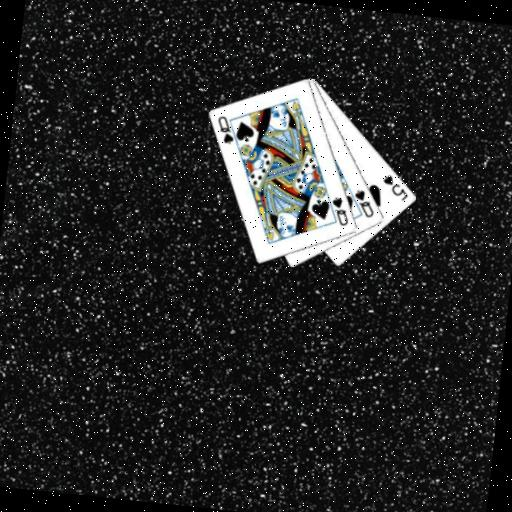5S: (379, 171, 412, 203)
QS: (349, 186, 378, 220), (326, 193, 352, 228), (213, 113, 238, 147)
